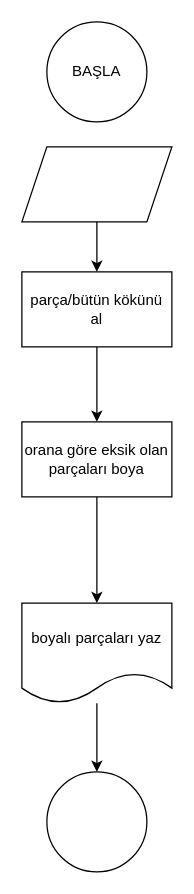
This 194x894 diagram has some shape labels left out. The box of each missing label's shape, as (x1, y1, x2, y2) in pixels:
DUR: (46, 771, 147, 872)
parça ,bütün: (21, 146, 172, 222)
